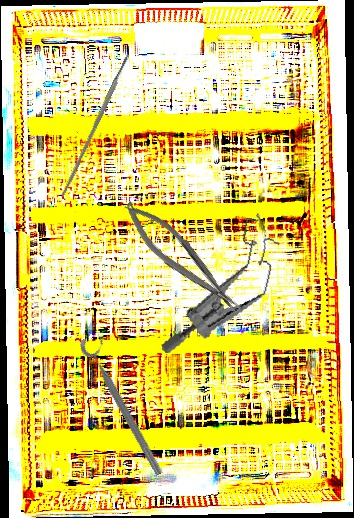Fixation Ring: (76, 330, 175, 479)
Needle Holder: (116, 192, 247, 325)
Scalpel Handle: (59, 53, 132, 199)
Speculum: (157, 197, 289, 374)
